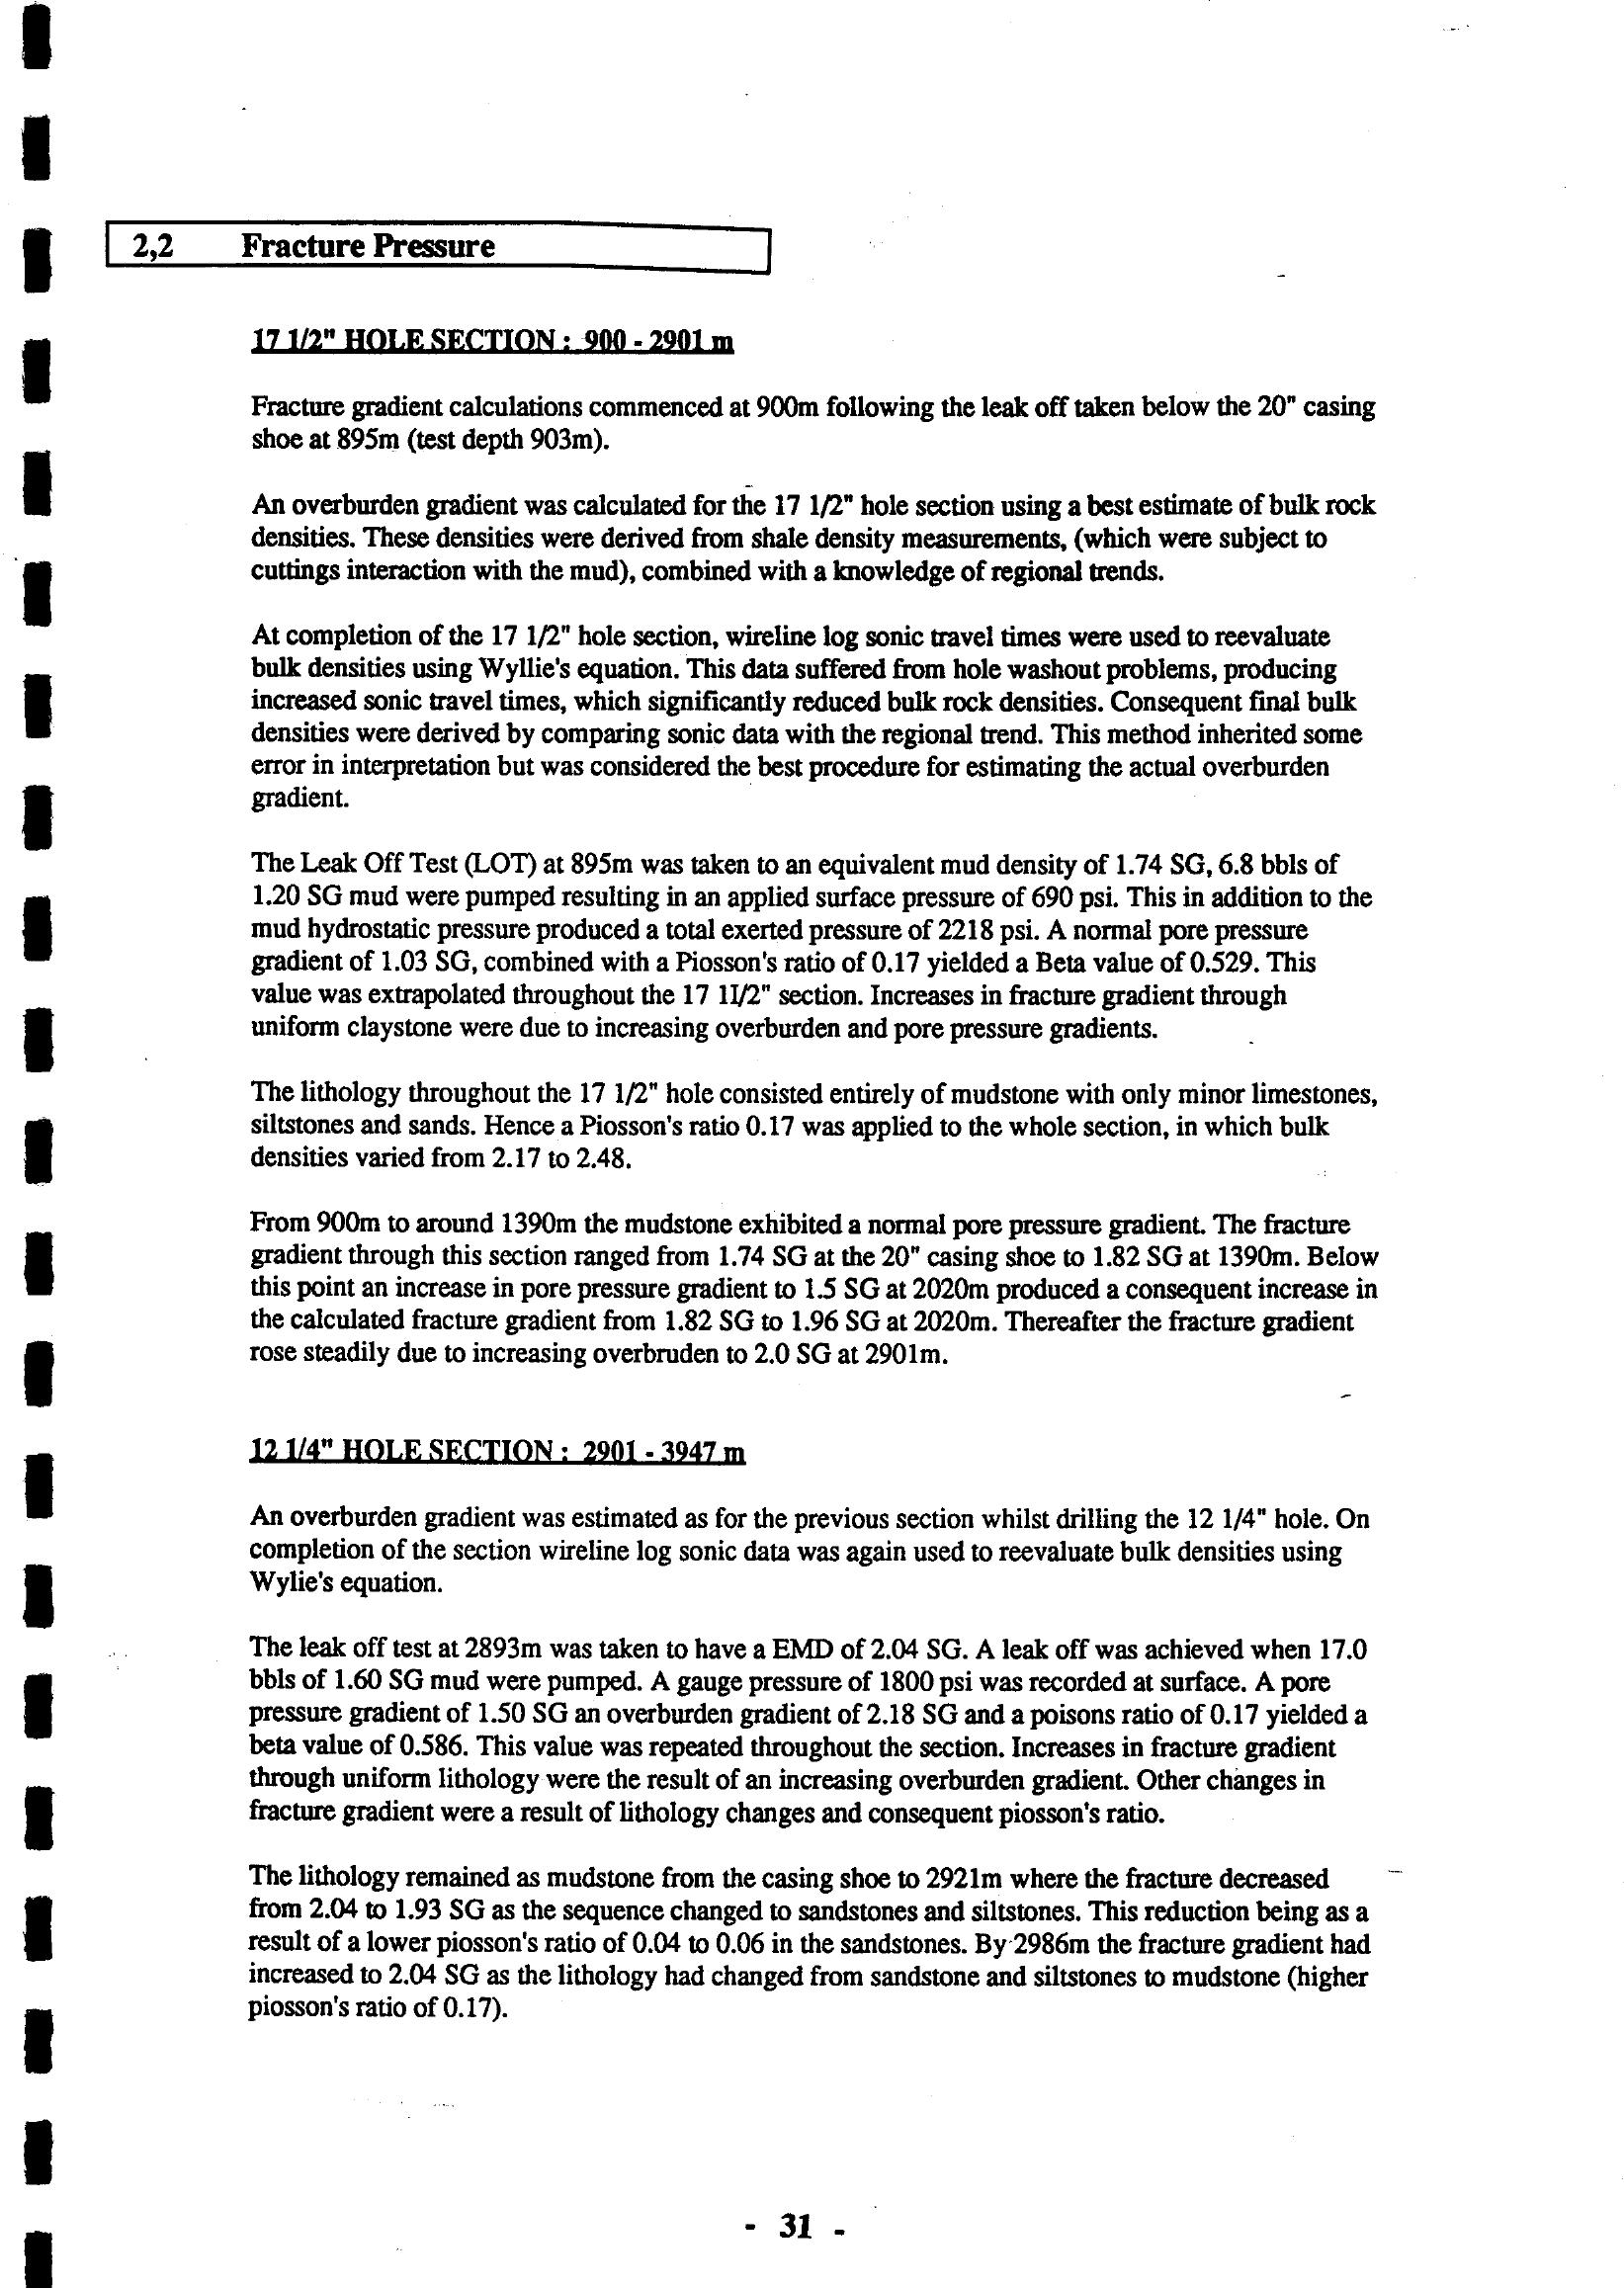text: (90, 177, 1522, 2088)
